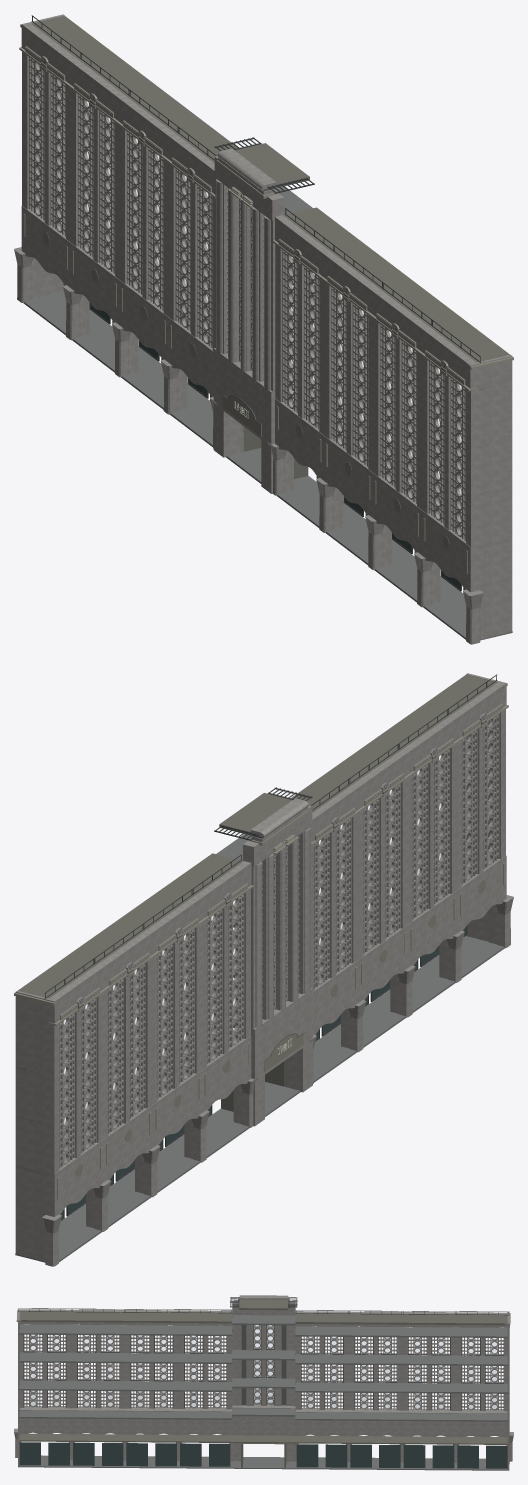
File: hongkou-1933-slaughterhouse-west-concrete-screen-lod.glb
3 views of the same model, one above another, from view 1: azimuth 30°, elevation 25°; view 2: azimuth 150°, elevation 25°; view 3: azimuth 270°, elevation 25° (orthographic). The views are drawn at different scales.
Parts seen in each view (by area): view 1: 1933老场坊西立面圆环花格窗; view 2: 1933老场坊西立面圆环花格窗; view 3: 1933老场坊西立面圆环花格窗.
Part boxes in pixels (x1,y1,x2,y2): 1933老场坊西立面圆环花格窗: (14,14,513,644); 1933老场坊西立面圆环花格窗: (14,673,513,1266); 1933老场坊西立面圆环花格窗: (14,1295,513,1470).
Bounding box in the file's own units: 4.62 × 22.5 × 62.94.
Materials: 13 (1 with a texture image).
